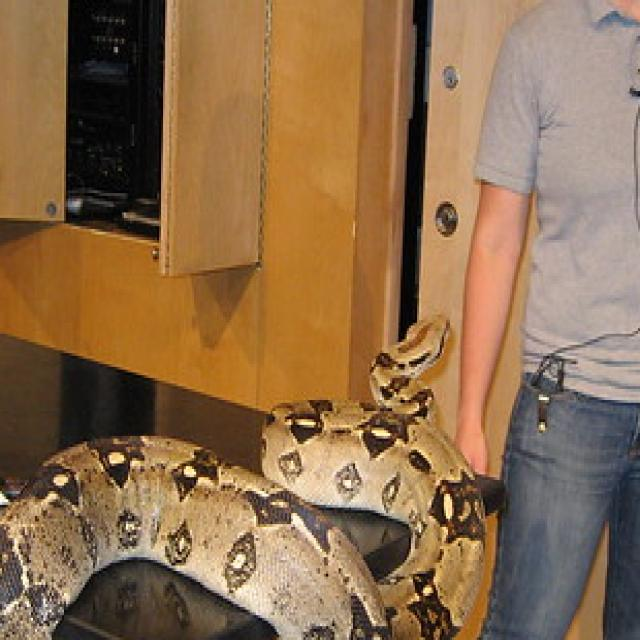Snake: (0, 309, 506, 640)
